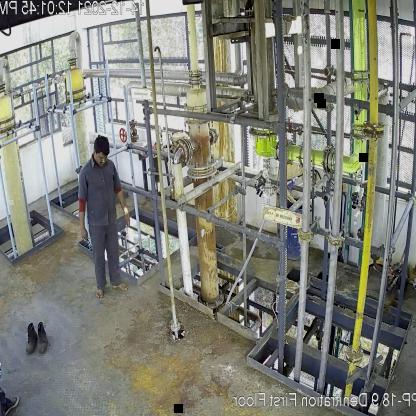no_shoes: (112, 281, 130, 291), (96, 288, 106, 302)
shoes: (34, 320, 49, 355), (24, 323, 37, 353)
